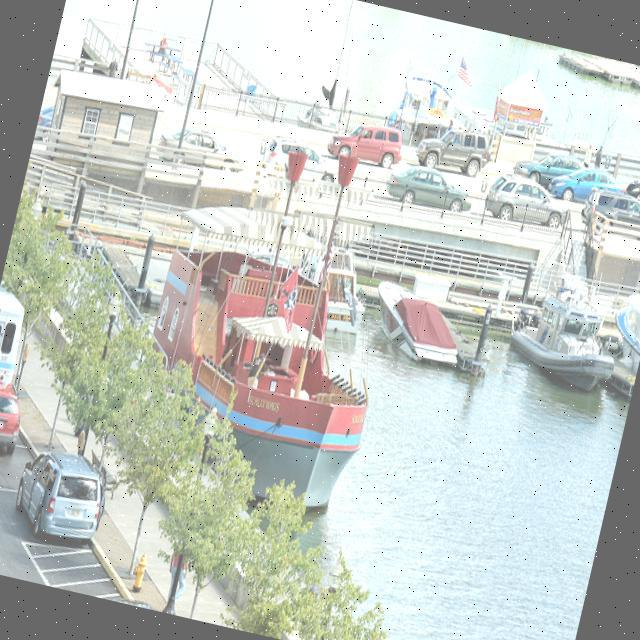fire_hydrant: (127, 550, 149, 592)
